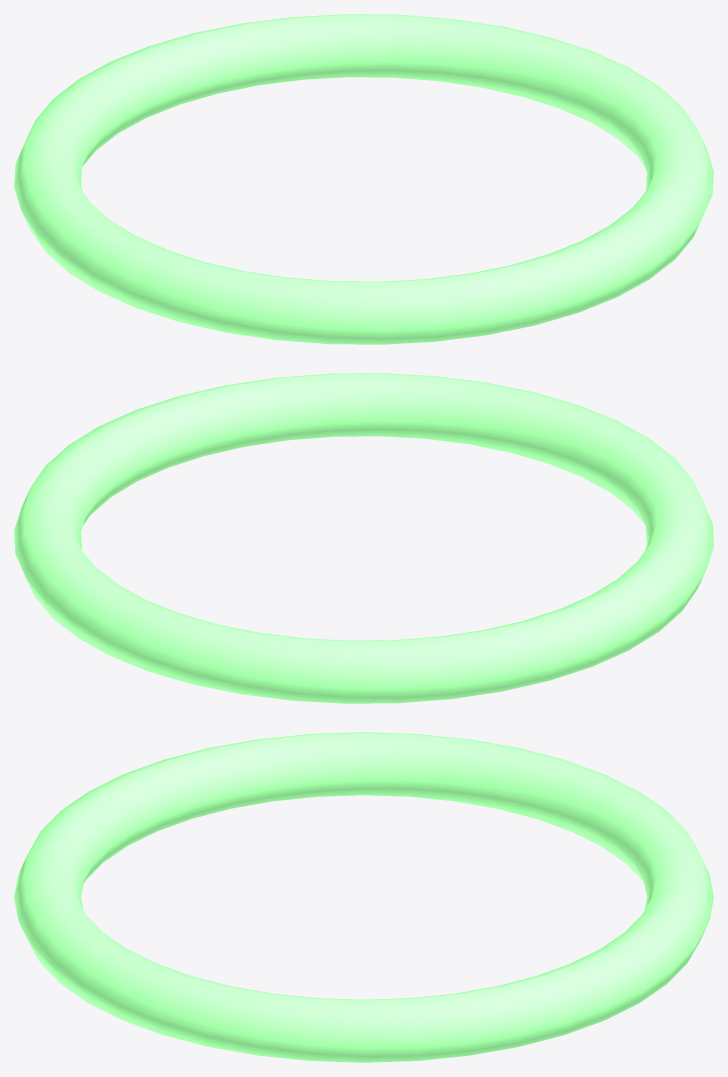
File: mood-ring.glb
3 renders of one model, top to bottom at view 1: azimuth 30°, elevation 25°; view 2: azimuth 150°, elevation 25°; view 3: azimuth 270°, elevation 25°, orthographic.
Visible parts, largest first — view 1: MoodRing; view 2: MoodRing; view 3: MoodRing.
Part boxes in pixels (x1,y1,x2,y2): MoodRing: (14, 14, 713, 344); MoodRing: (14, 373, 713, 703); MoodRing: (14, 732, 713, 1062).
Size of the model in its own units: 0.0376 by 0.0036 by 0.0376.
